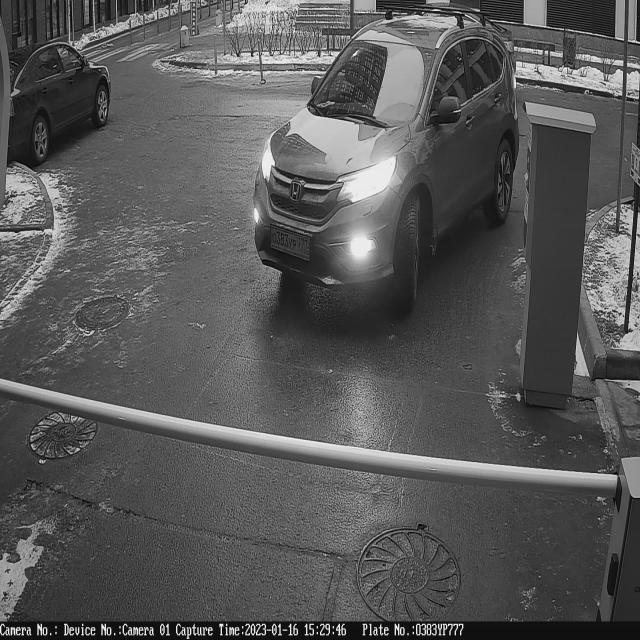car-plate-numbers: (269, 219, 313, 265)
